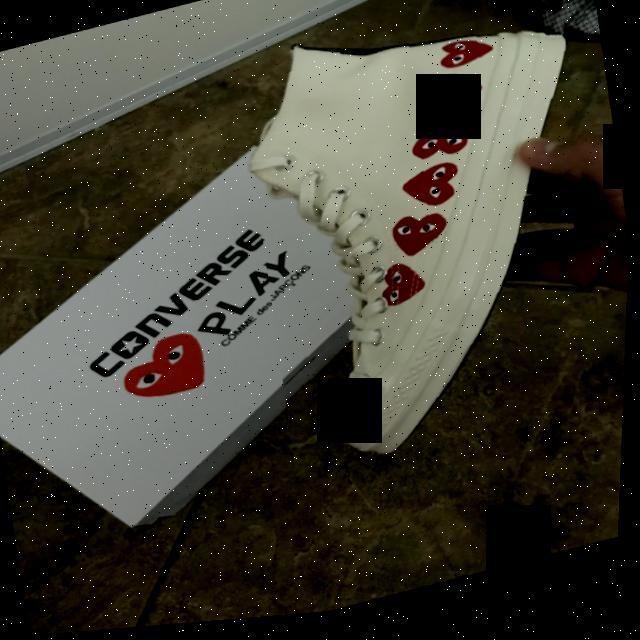shoe: (225, 0, 633, 487)
